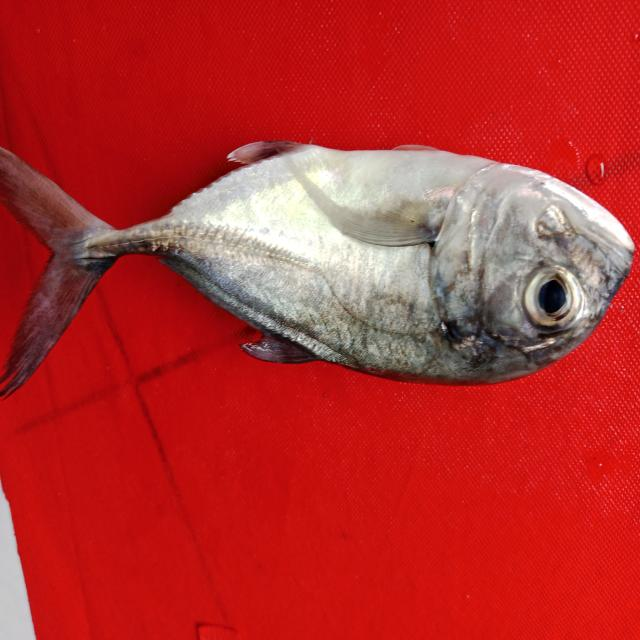ikan: (4, 96, 636, 413)
